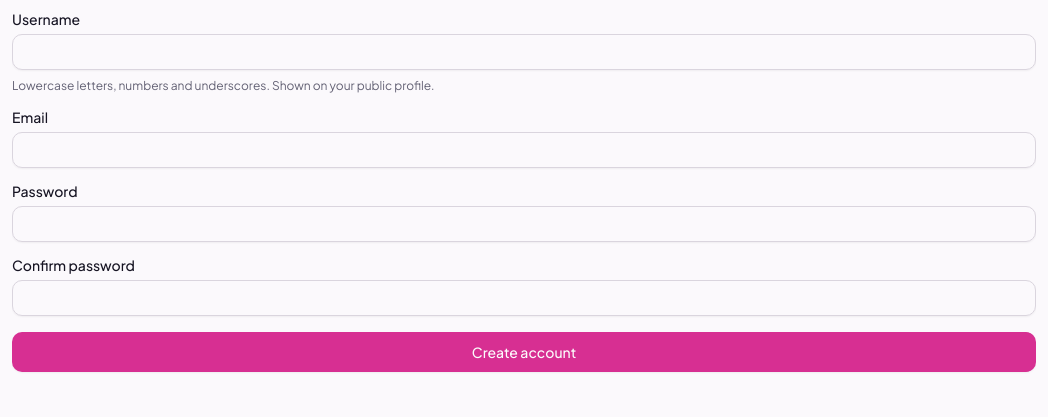
SignupForm › checks that the passwords match
The image size is (1048, 417).
Type "prasad_ks" into the field labelled "Username" at (524, 52), box [12,34,1036,70]
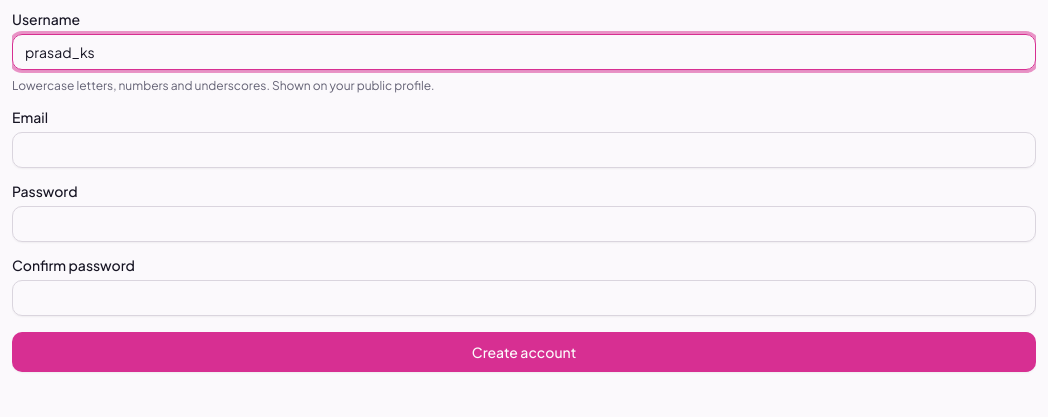
Type "prasad@example.com" into the field labelled "Email" at (524, 150), box [12,132,1036,168]
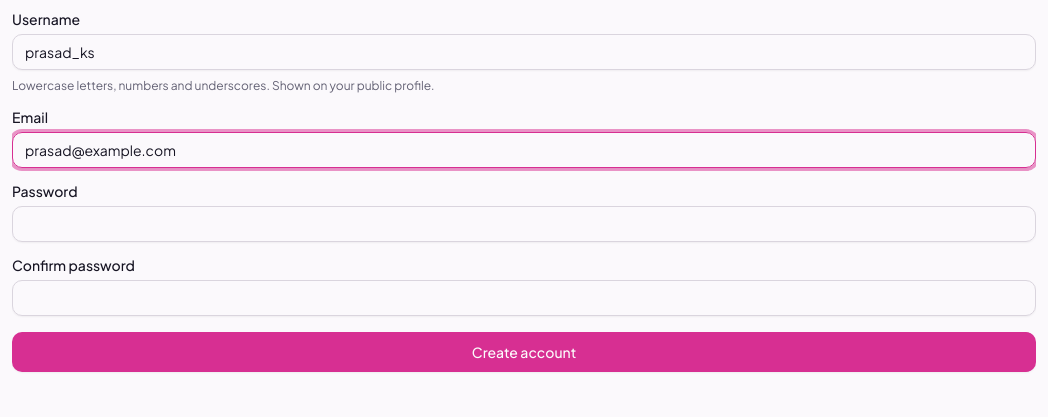
Type "secret123" into the password field labelled "Password" at (524, 224), box [12,206,1036,242]
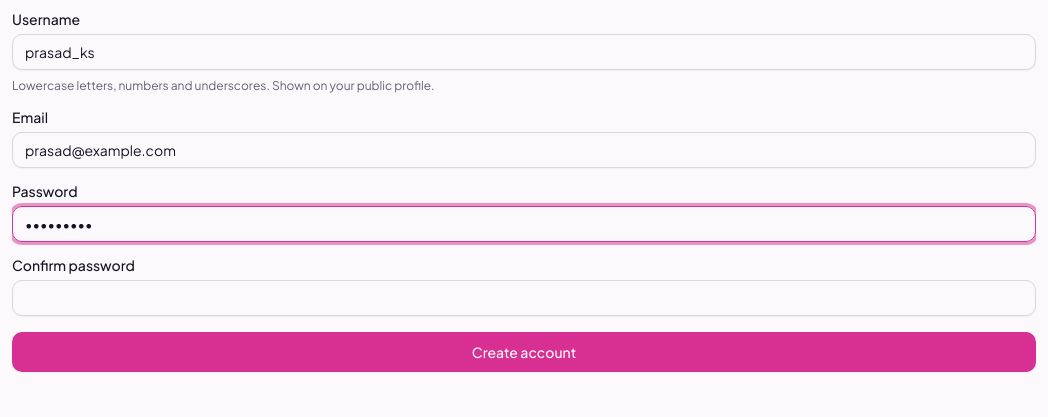
Type "secret124" into the password field labelled "Confirm password" at (524, 298), box [12,280,1036,316]
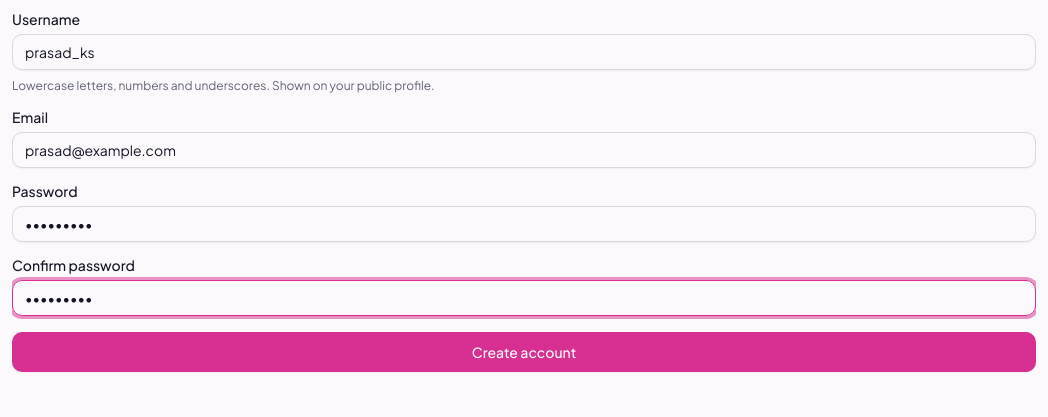
Click the button "Create account" at (524, 352), box [12,332,1036,372]
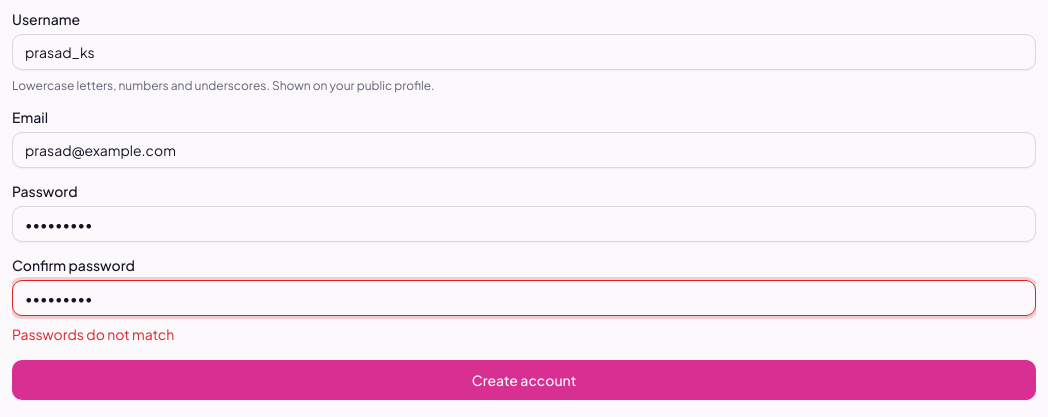
Result: the text "Passwords do not match" is shown at [12,325,174,343]
